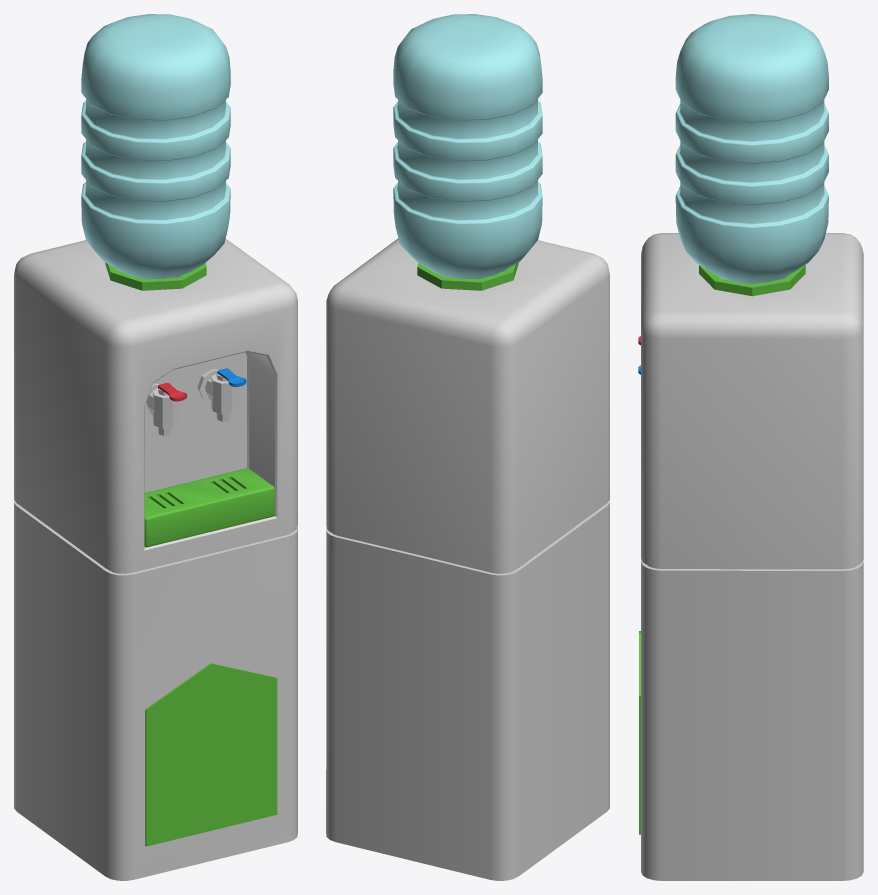
Rendered from Dispenser.fbx.
3 views of the same model, side by side, from view 1: azimuth 30°, elevation 25°; view 2: azimuth 150°, elevation 25°; view 3: azimuth 270°, elevation 25° (orthographic).
Parts seen in each view (by area): view 1: Dispenser; view 2: Dispenser; view 3: Dispenser.
Part boxes in pixels (left/top/right/bottom): Dispenser: left=14, top=14, right=297, bottom=880; Dispenser: left=326, top=14, right=609, bottom=880; Dispenser: left=638, top=14, right=863, bottom=880.
Bounding box in the file's own units: 41.6 × 165 × 42.1.
